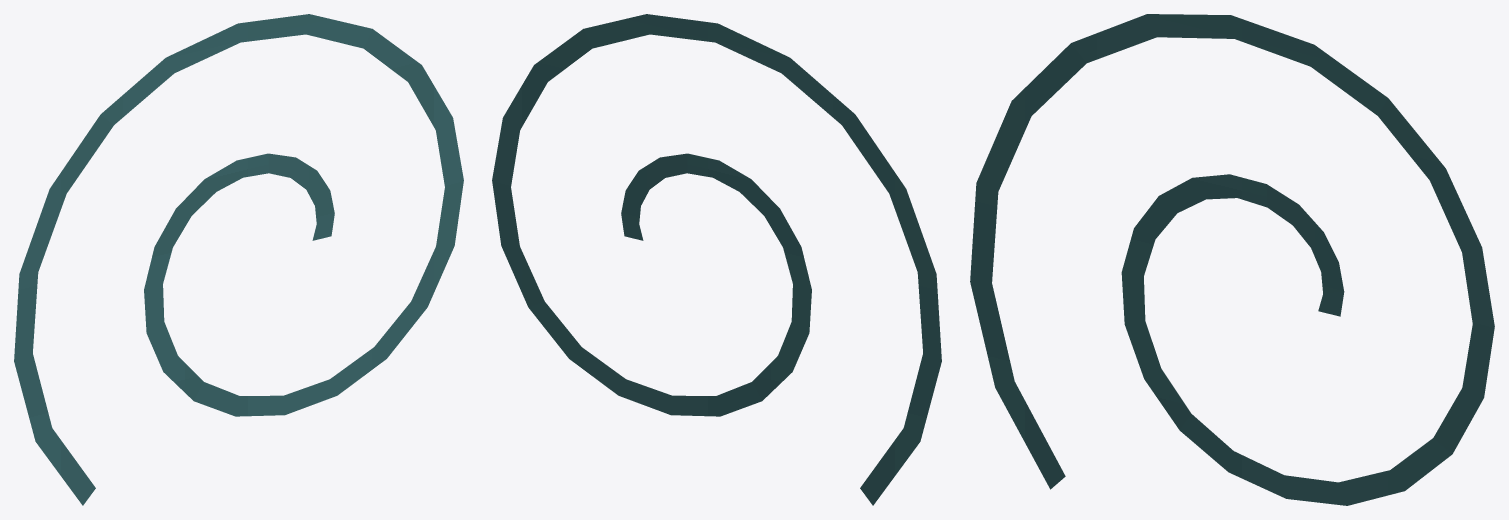
Rendered from Wound-edge.glb.
3 renders of one model, left to right at view 1: azimuth 30°, elevation 25°; view 2: azimuth 150°, elevation 25°; view 3: azimuth 330°, elevation 25°, orthographic. The views are drawn at different scales.
Parts seen in each view (by area): view 1: Wound-edge; view 2: Wound-edge; view 3: Wound-edge.
Part boxes in pixels (box(x1,y1,x2,y2)): Wound-edge: box(14, 14, 463, 505); Wound-edge: box(492, 14, 941, 505); Wound-edge: box(970, 14, 1494, 505).
Size of the model in its own units: 0.1413 by 0.1335 by 0.
1 material, 1 textured.
